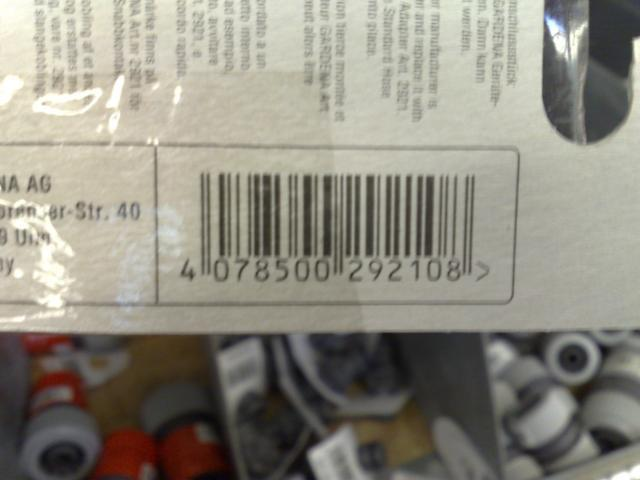Barcode: (159, 152, 505, 299)
